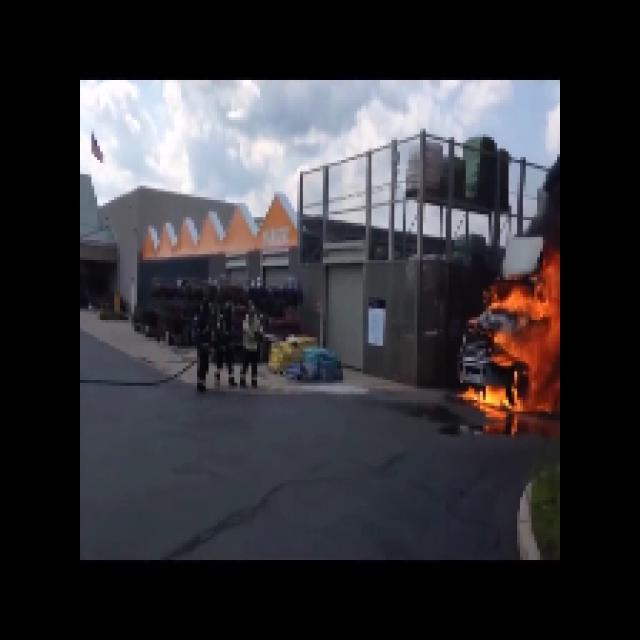fire: (483, 272, 563, 406)
